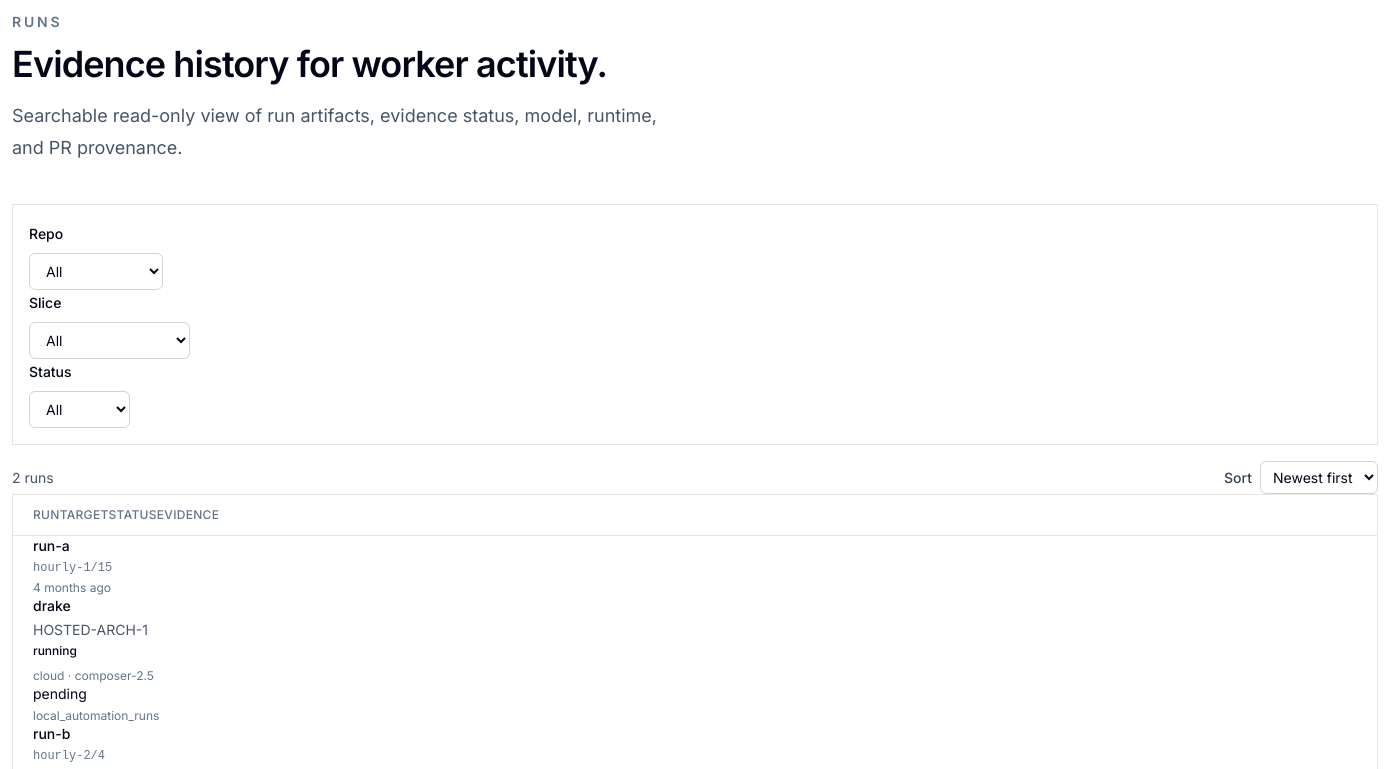
Test: Run history › summarizes filtered results and clears active filters
The image size is (1390, 769).
Expected: the text "2 runs" is shown, top-left (12, 468), bottom-right (54, 488)
Expected: the button "Clear filters" is not shown
Step 1. Select "success" in the dropdown labelled "Status" → (80, 410), box top-left (29, 391), bottom-right (130, 428)
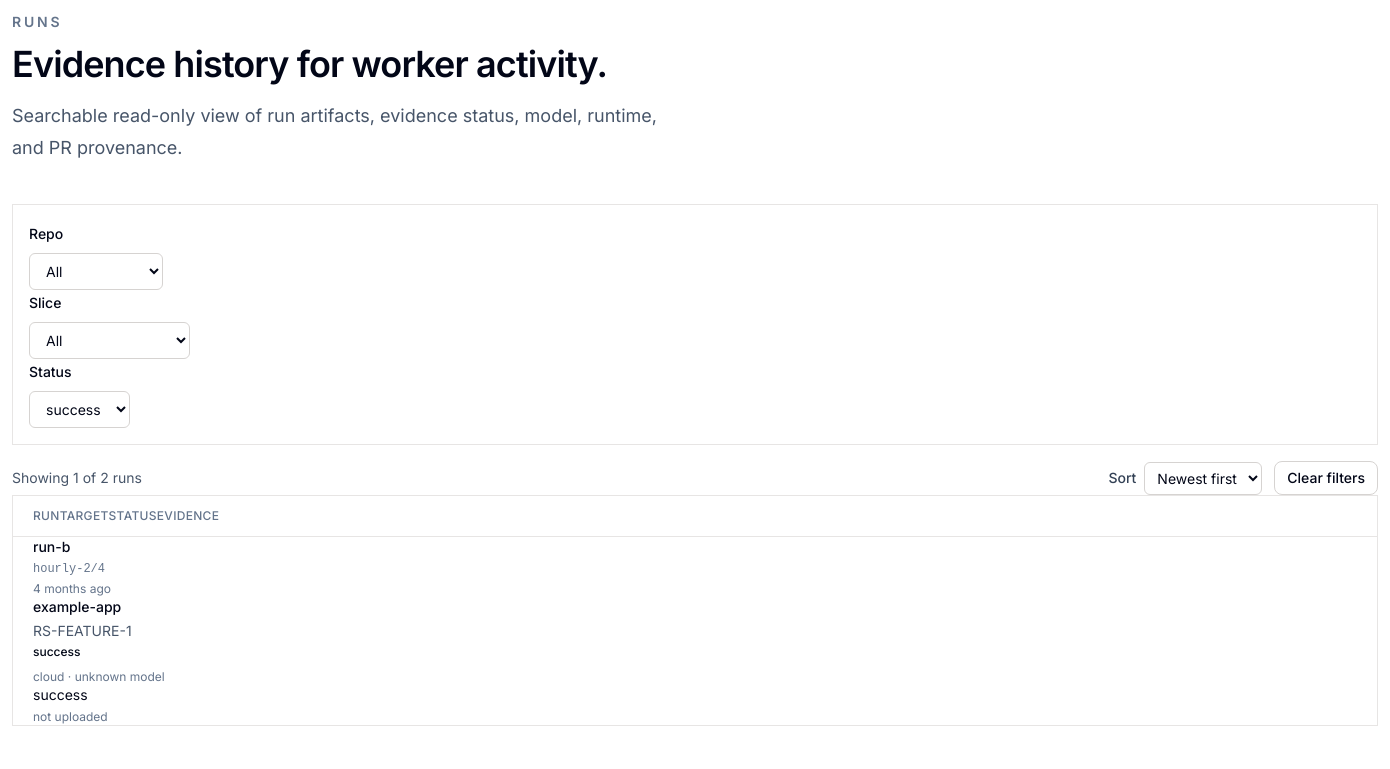
Expected: the text "Showing 1 of 2 runs" is shown, top-left (12, 468), bottom-right (142, 488)
Step 2. Click the button "Clear filters" → (1326, 478), box top-left (1274, 461), bottom-right (1378, 495)
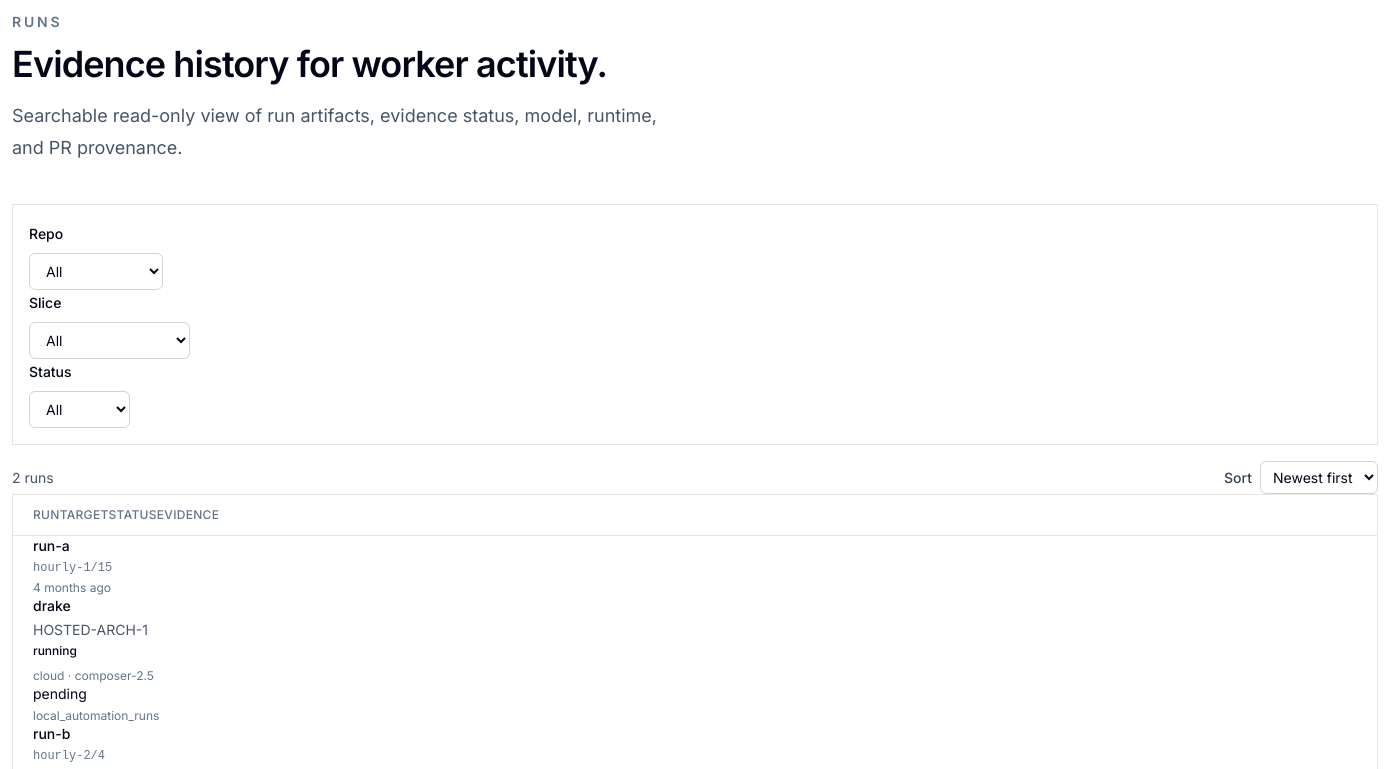
Expected: the text "2 runs" is shown, top-left (12, 468), bottom-right (54, 488)
Expected: the link "run-a" is shown, top-left (33, 537), bottom-right (70, 554)
